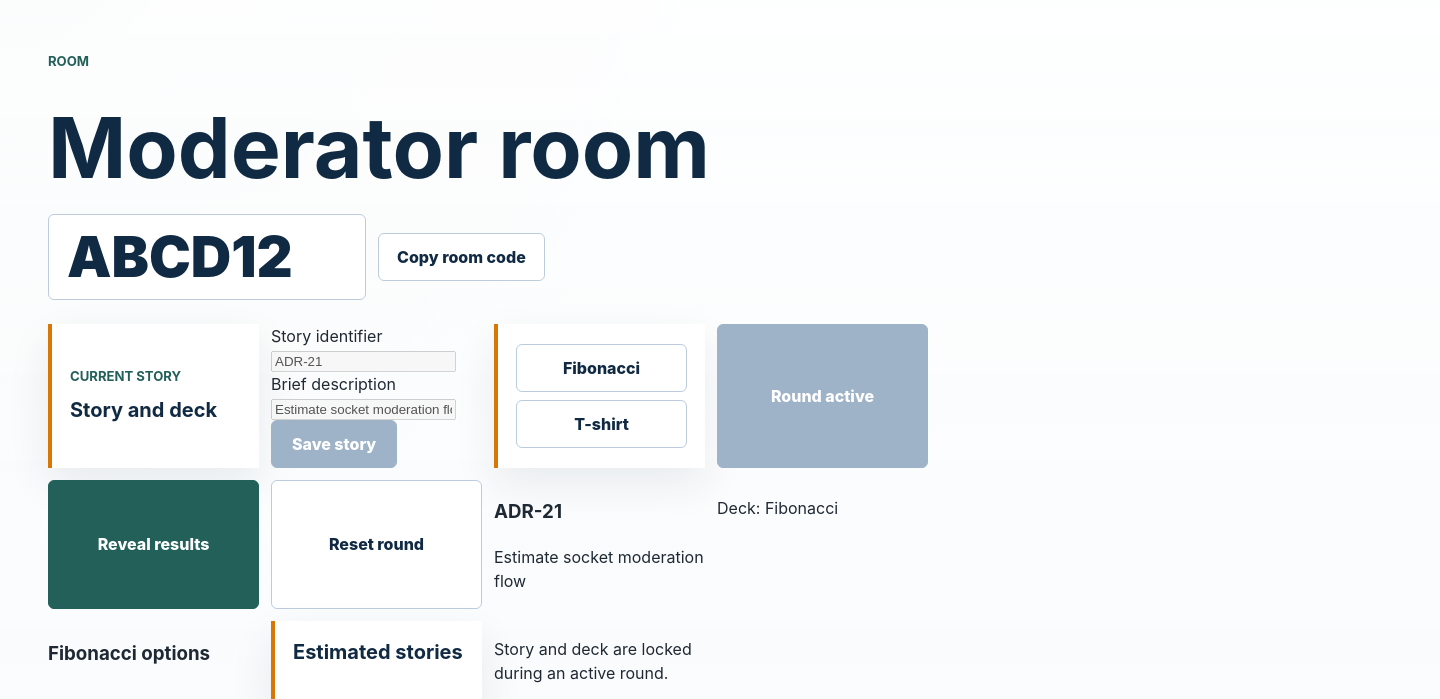
ModeratorSessionView › shows readable reveal errors and renders non-voters in presence without card values
Click the button "Reveal results" at (154, 544), box left=48, top=480, right=259, bottom=609
(page scrolled)
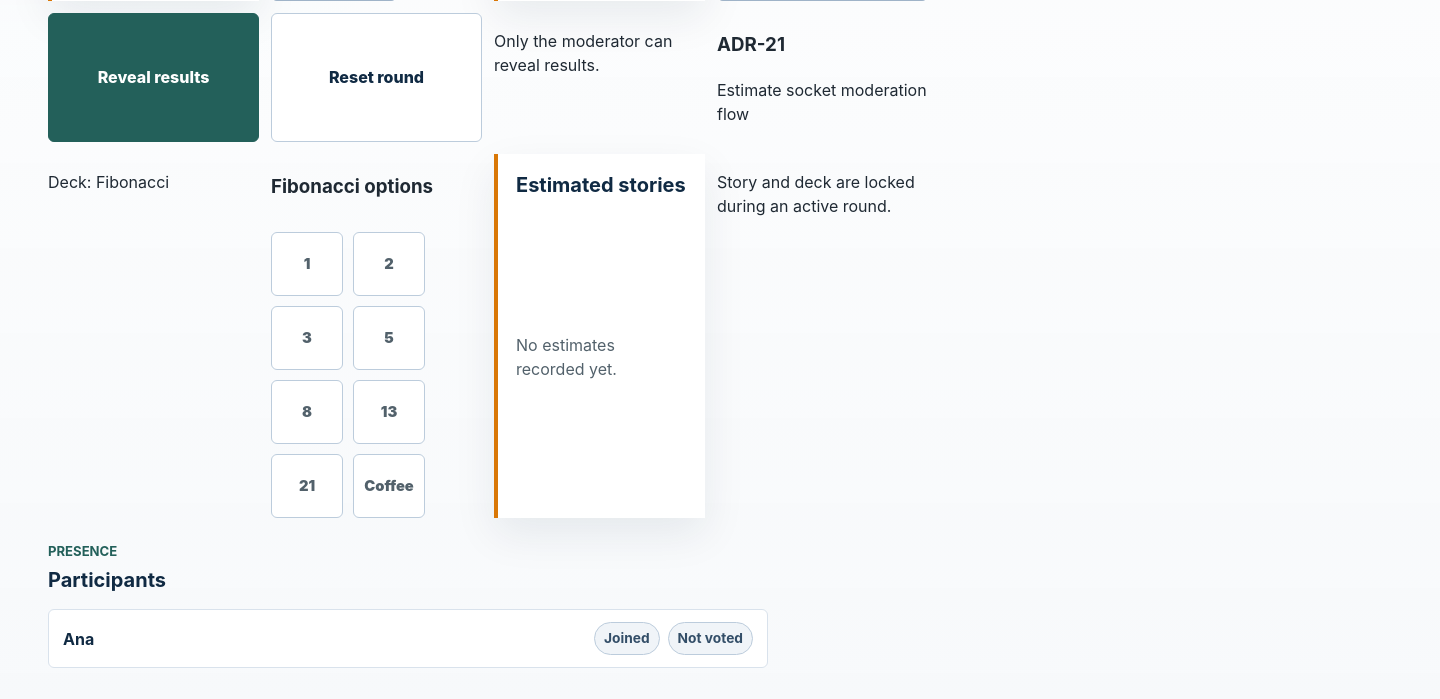
Expected: the list item "Ana Joined Not voted" is shown, left=48, top=609, right=768, bottom=668
Result: the message reads "Only the moderator can reveal results." at left=494, top=31, right=672, bottom=75
